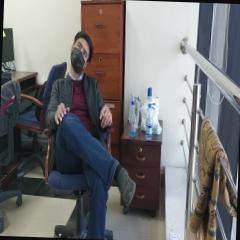not-gloved: (54, 102, 70, 125), (100, 104, 112, 128)
